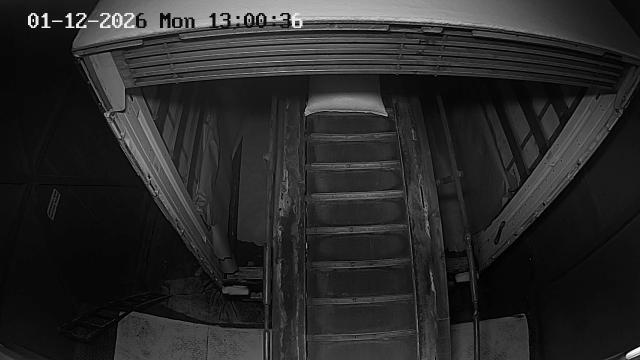bag: (306, 74, 387, 116)
